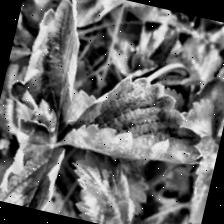Powdery Mildew Leaf: (60, 62, 218, 177), (0, 0, 96, 138), (0, 112, 72, 213)
